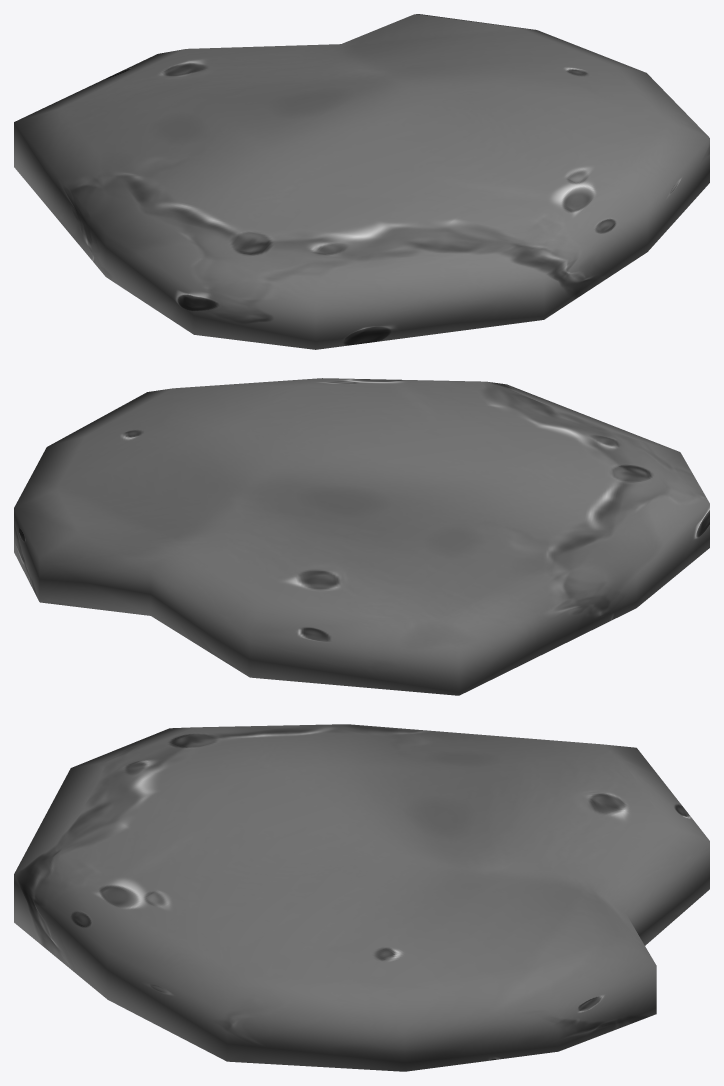
The model's file is stone-1.glb.
The picture shows the model from 3 angles, top to bottom: view 1: azimuth 30°, elevation 25°; view 2: azimuth 150°, elevation 25°; view 3: azimuth 270°, elevation 25°; orthographic projection. The views are drawn at different scales.
Visible parts, largest first — view 1: SM_PROP_stone_01; view 2: SM_PROP_stone_01; view 3: SM_PROP_stone_01.
Part boxes in pixels (x1,y1,x2,y2): SM_PROP_stone_01: [14, 14, 709, 349]; SM_PROP_stone_01: [14, 378, 709, 695]; SM_PROP_stone_01: [14, 724, 709, 1071].
Bounding box in the file's own units: 1.82 × 0.2694 × 1.79.
Materials: 1 (1 with a texture image).
